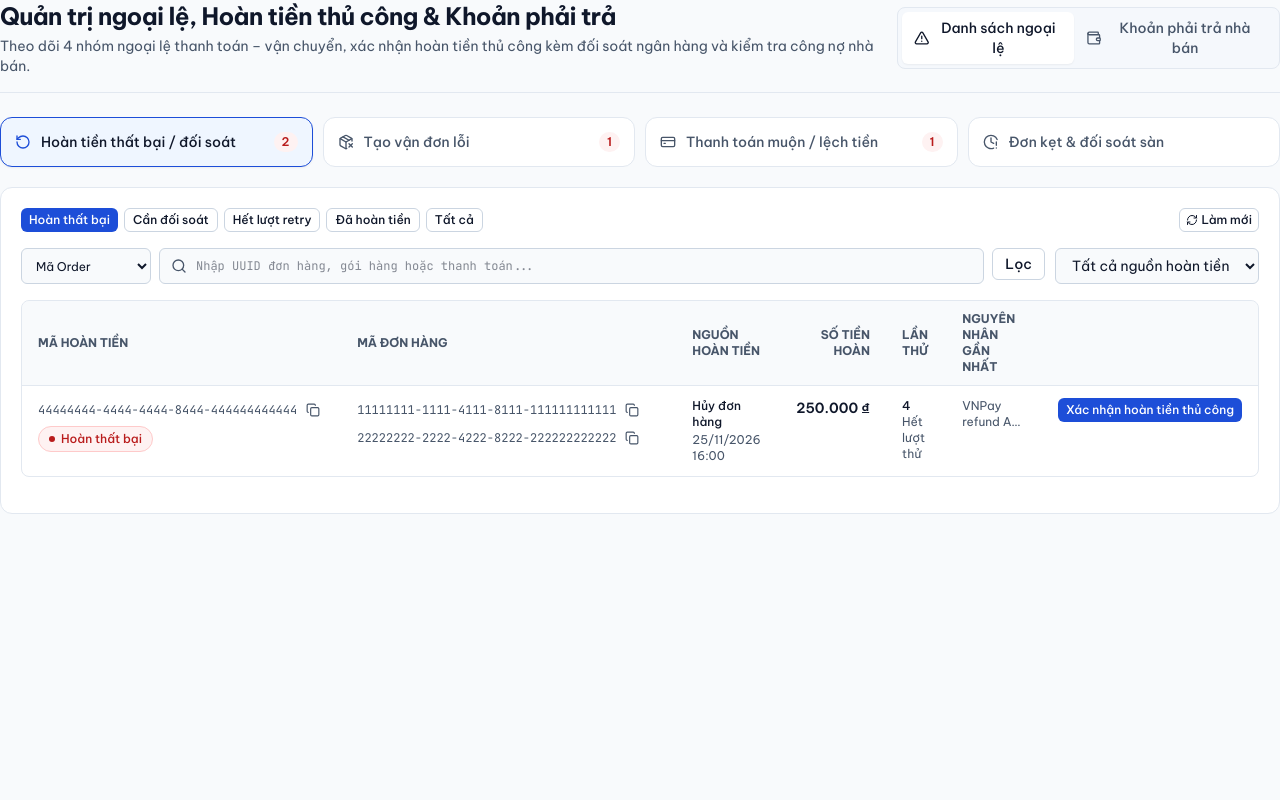
Test: AdminExceptionsPage (T5-09) › renders 4 exception groups and confirms manual refund with bankTransactionRef + audit reason
Expected: the tab "Hoàn tiền thất bại / đối soát 2" is shown, [0,117,312,167]
Expected: the tab "Tạo vận đơn lỗi 1" is shown, [322,117,635,167]
Click the button "Xác nhận hoàn tiền thủ công" at (1150, 410), box [1058,398,1242,422]
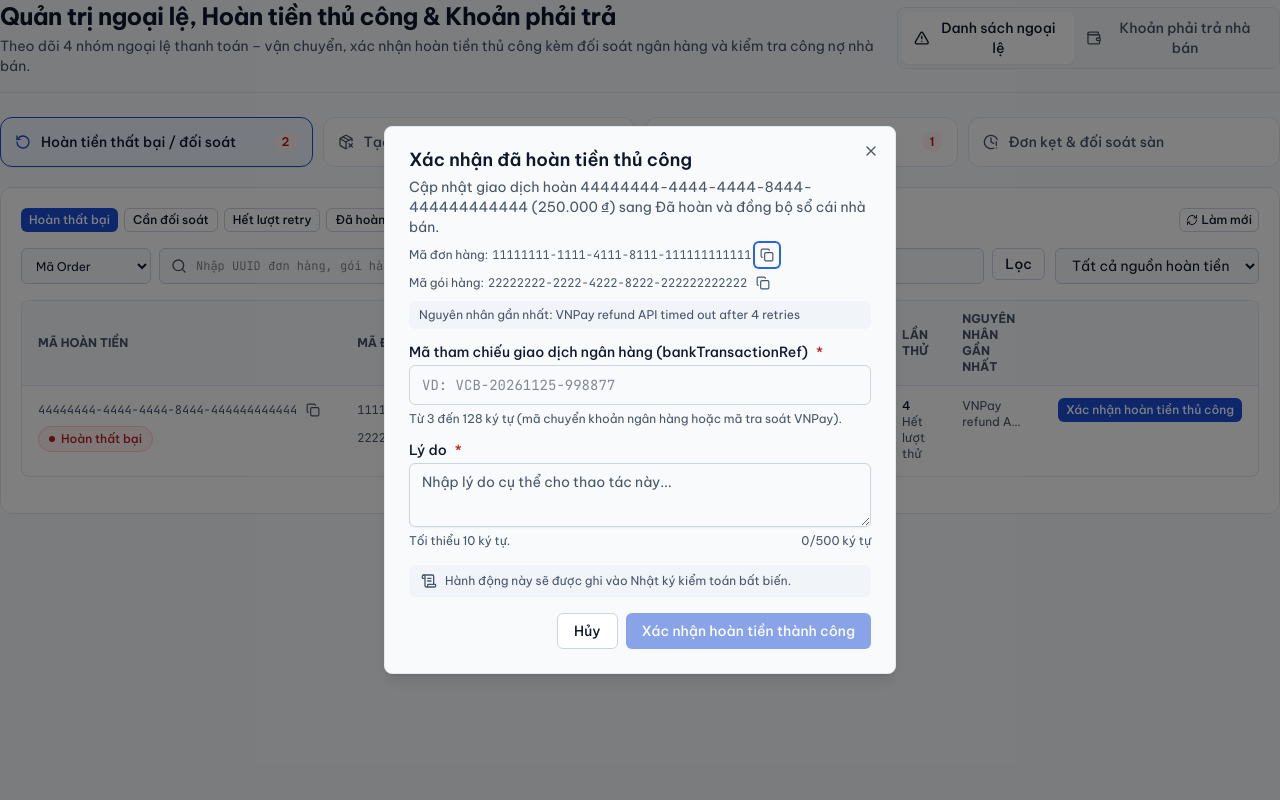
Expected: the button "Xác nhận hoàn tiền thành công" is disabled, [626,613,871,649]
Type "VCB-20261125-001" into the field labelled "Mã tham chiếu giao dịch ngân hàng (bankTransactionRef) *" at (640, 385), box [409,365,871,405]
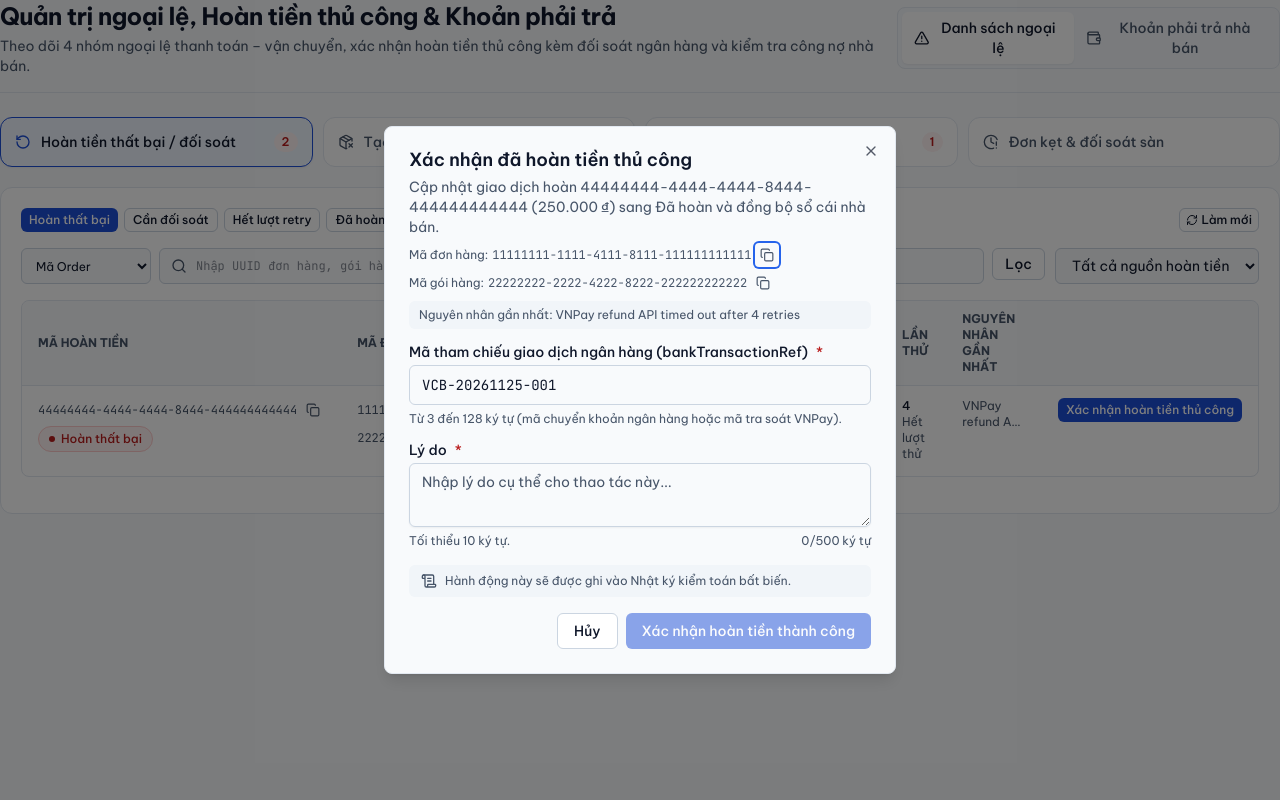
Type "Đã chuyển khoản hoàn tiền thủ công cho người mua" into the text box labelled "Lý do *" at (640, 495), box [409,463,871,527]
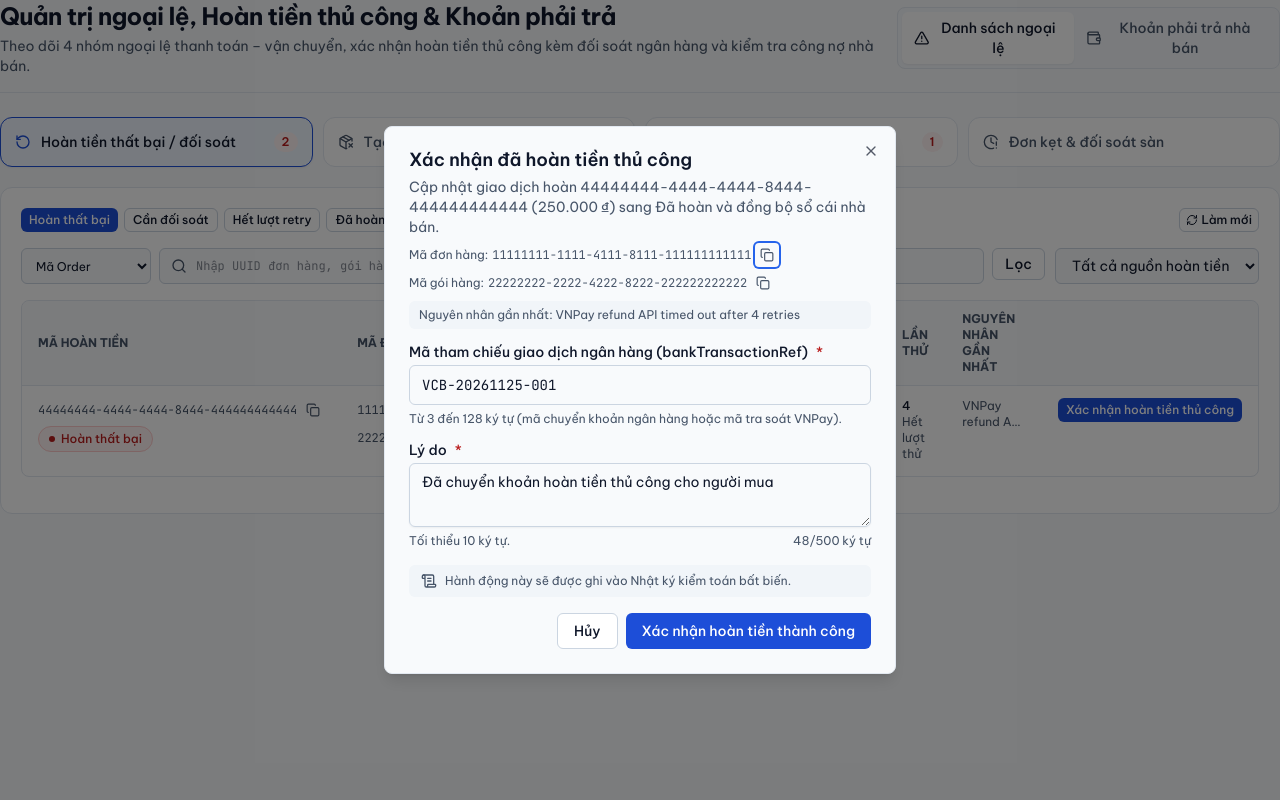
Expected: the button "Xác nhận hoàn tiền thành công" is enabled
Click the button "Xác nhận hoàn tiền thành công" at (748, 631), box [626,613,871,649]
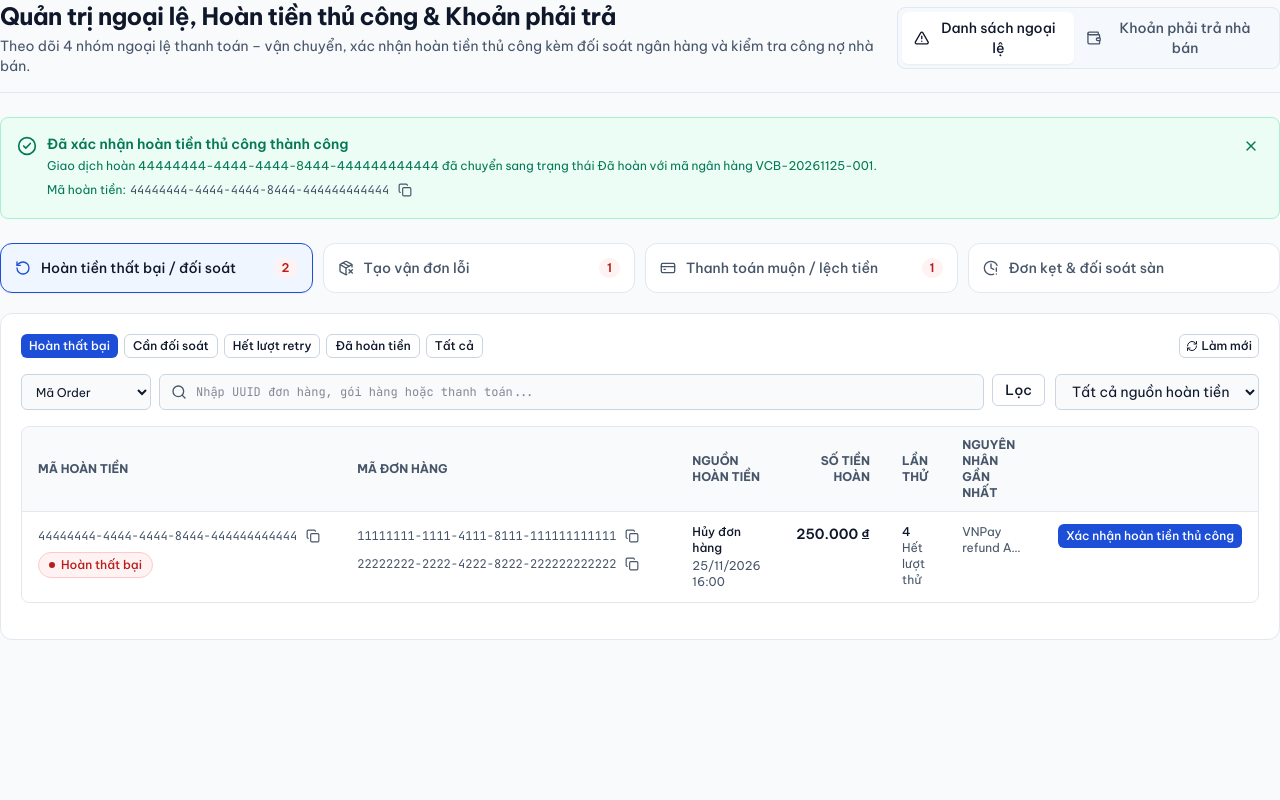
Expected: the text "Đã xác nhận hoàn tiền thủ công thành công" is shown, [47,135,348,153]
Expected: the text "VCB-20261125-001" is shown, [47,158,877,173]
